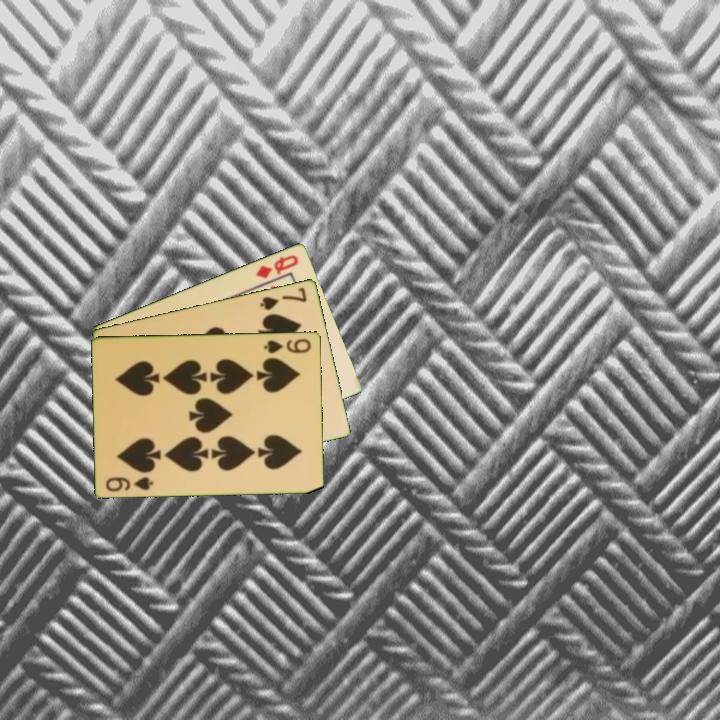7s: (256, 283, 310, 313)
9s: (260, 335, 314, 356), (102, 473, 156, 494)
Qd: (252, 251, 302, 281)
